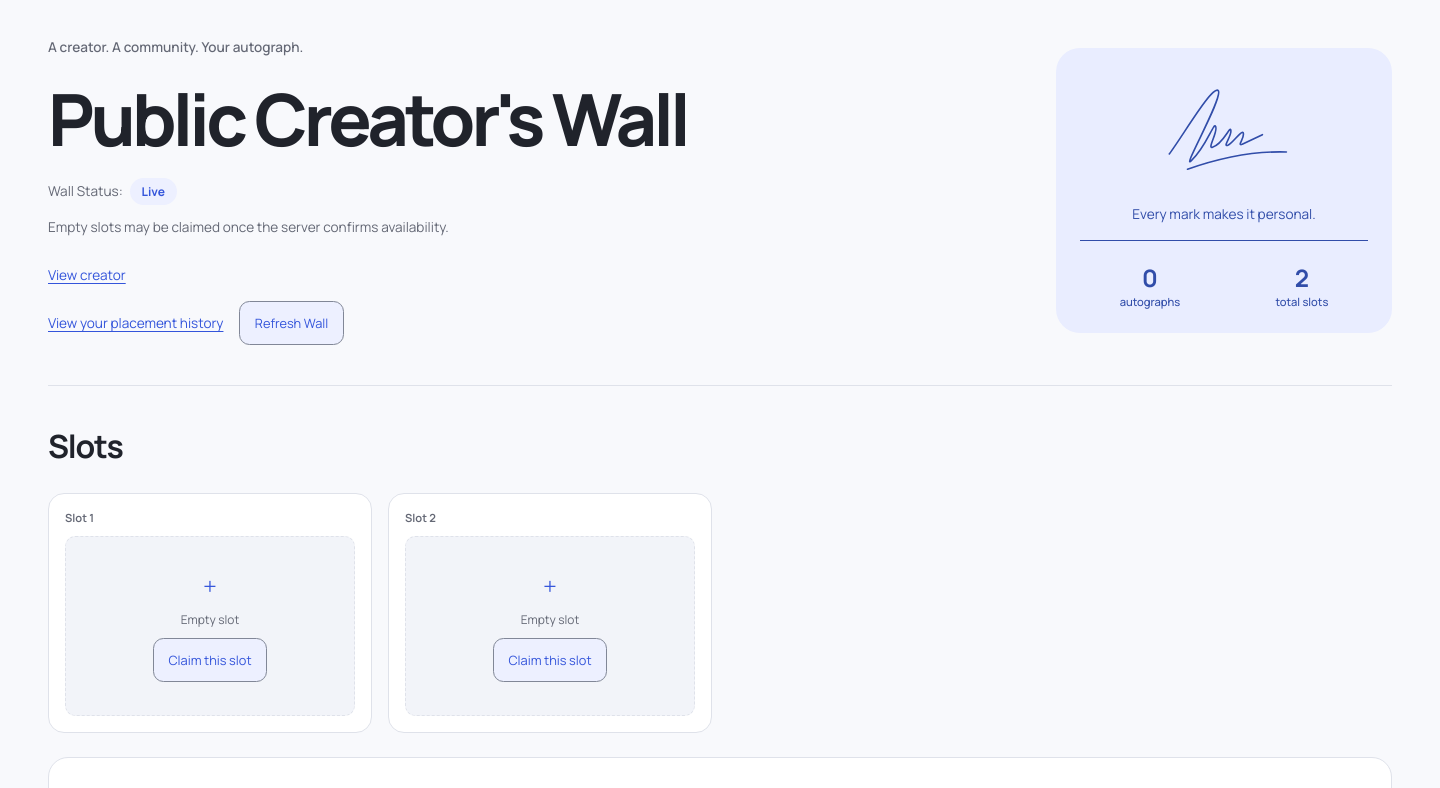
Test case: public Wall and Free Claim UX › disables claim controls when the server says the Wall is no longer claimable
The width and height of the screenshot is (1440, 788).
Step 1. Click the 1st button "Claim this slot" → click(210, 660), box [153,638,267,682]
(page scrolled)
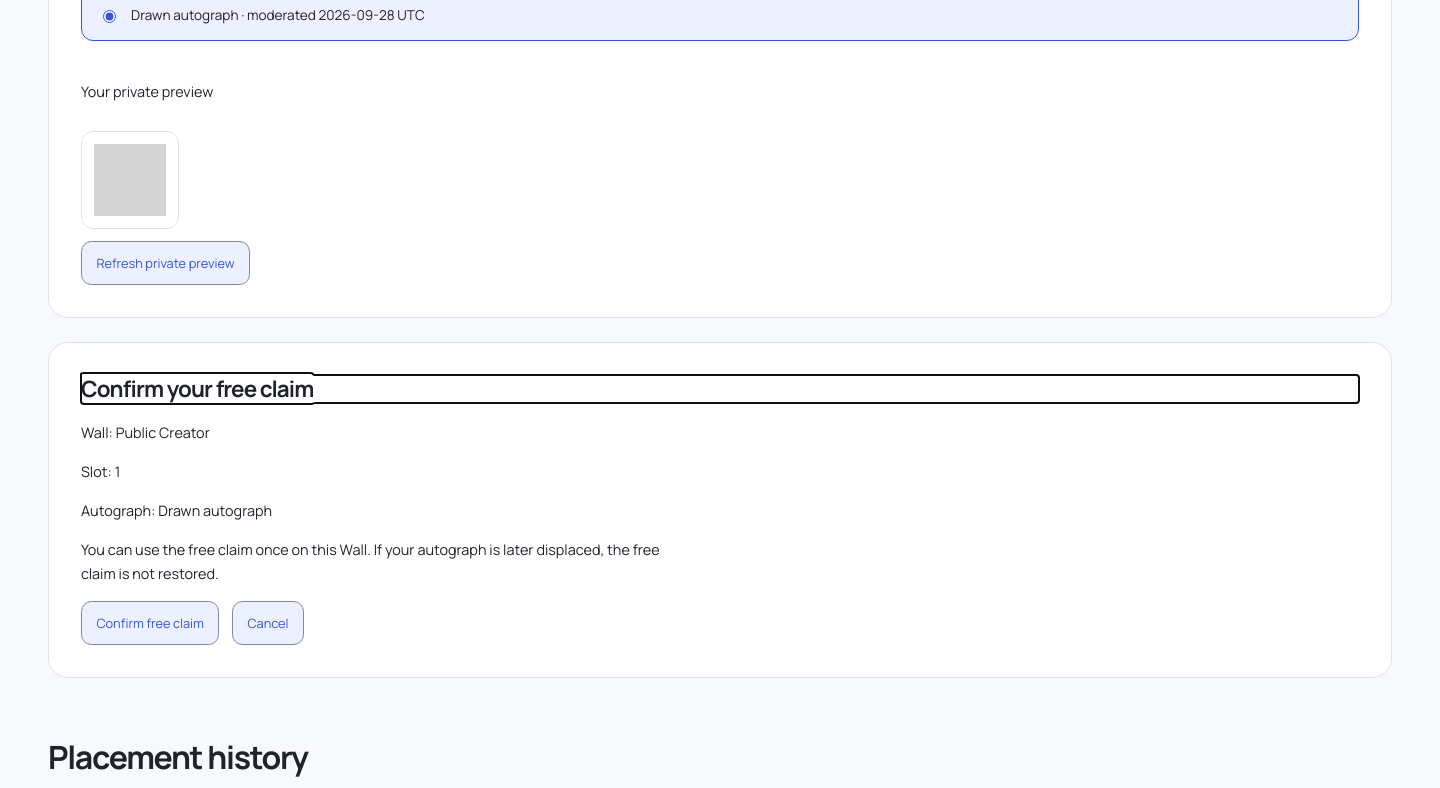
Step 2. Click the button "Confirm free claim" → click(150, 623), box [81,601,219,645]
(page scrolled)
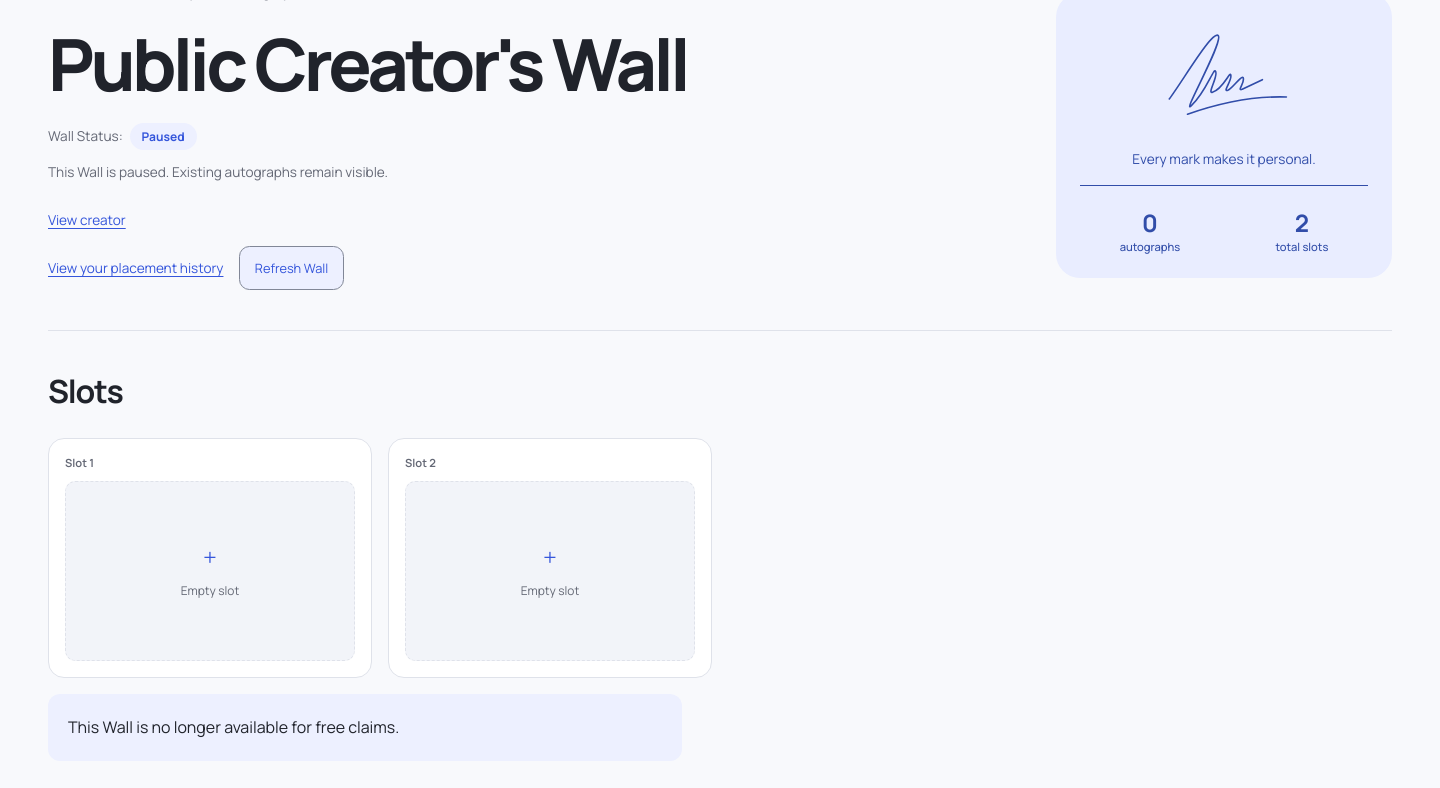
Check: the text "This Wall is no longer available for free claims." is shown, box [48,694,682,761]
Check: the text "Wall status:" shows "paused", box [142,128,184,145]
